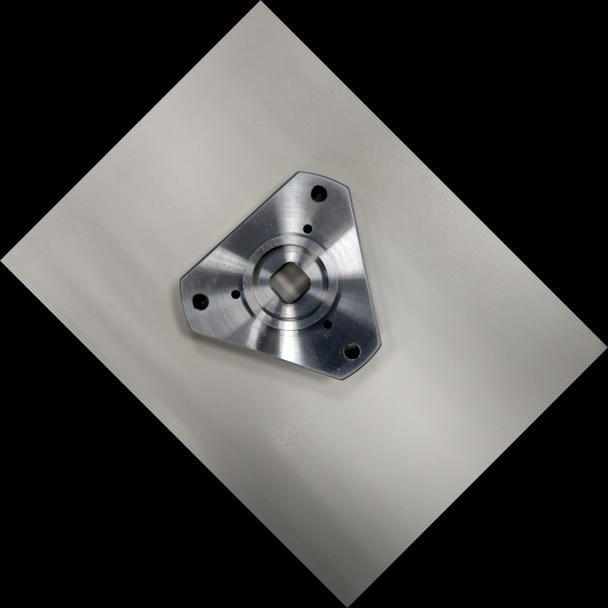hole: (336, 335, 366, 366), (304, 178, 333, 207), (185, 287, 214, 315), (226, 285, 243, 302), (319, 315, 335, 332), (299, 220, 315, 236)
